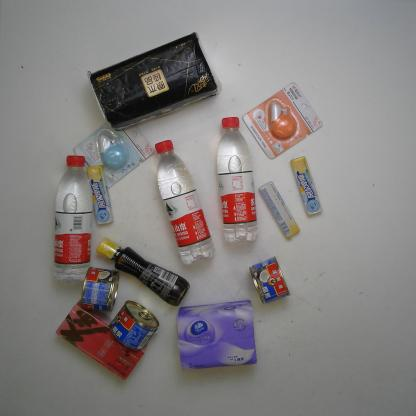Candy: (258, 181, 301, 239), (289, 155, 323, 216), (86, 165, 114, 225)
Canned Food: (108, 300, 160, 351), (249, 256, 291, 305), (81, 266, 120, 312)
Drink: (154, 139, 216, 265), (216, 116, 258, 244), (52, 154, 92, 284)
Instant Drink: (54, 298, 145, 381)
Seasoner: (94, 237, 190, 308)
Stationery: (242, 82, 323, 160), (72, 122, 155, 190)
Tissue: (87, 31, 222, 132), (177, 299, 257, 371)
